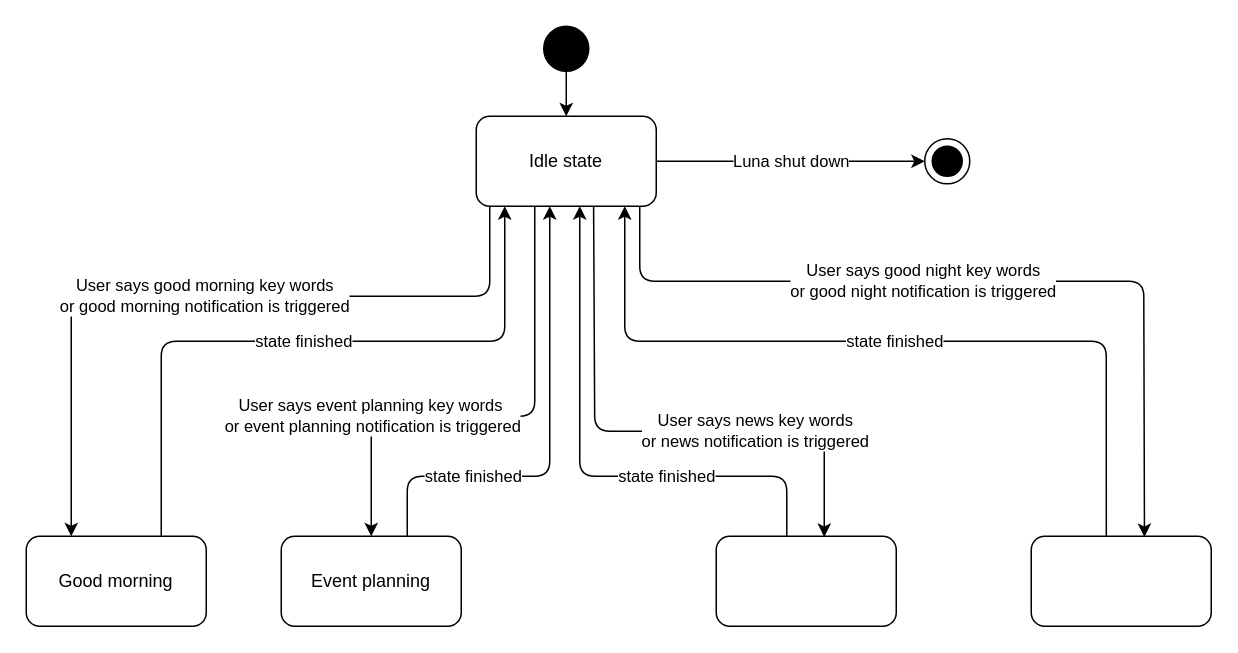
Some shapes in this 1238 by 653 pixel diagram are drawn without their labels. Here are the shapes that lost their labels. From the top down, the box of each, then its label:
(715, 535, 896, 626): News
(1030, 535, 1211, 626): Good night
